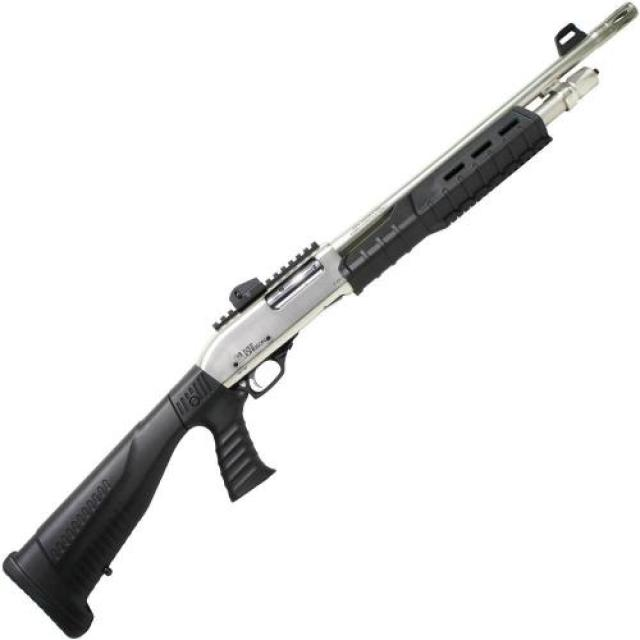ShotGun: (1, 3, 640, 640)
